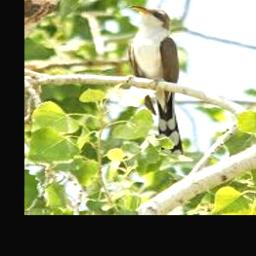Cuckoo: (127, 6, 184, 158)
